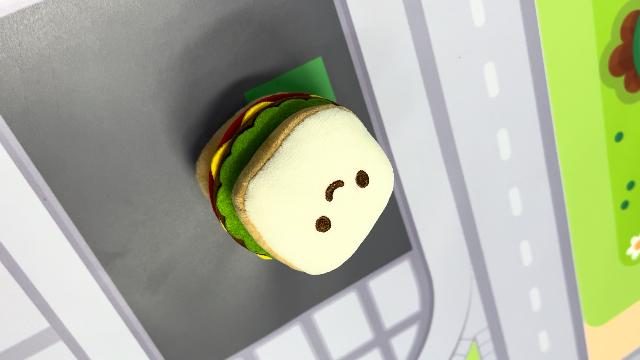sandwich: (194, 89, 396, 276)
